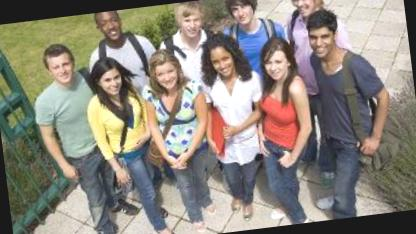person: (294, 0, 407, 221), (25, 33, 124, 234), (80, 48, 174, 234), (190, 26, 276, 227), (139, 39, 223, 234), (245, 30, 326, 223), (84, 6, 157, 60), (156, 0, 211, 41), (221, 0, 283, 35)
